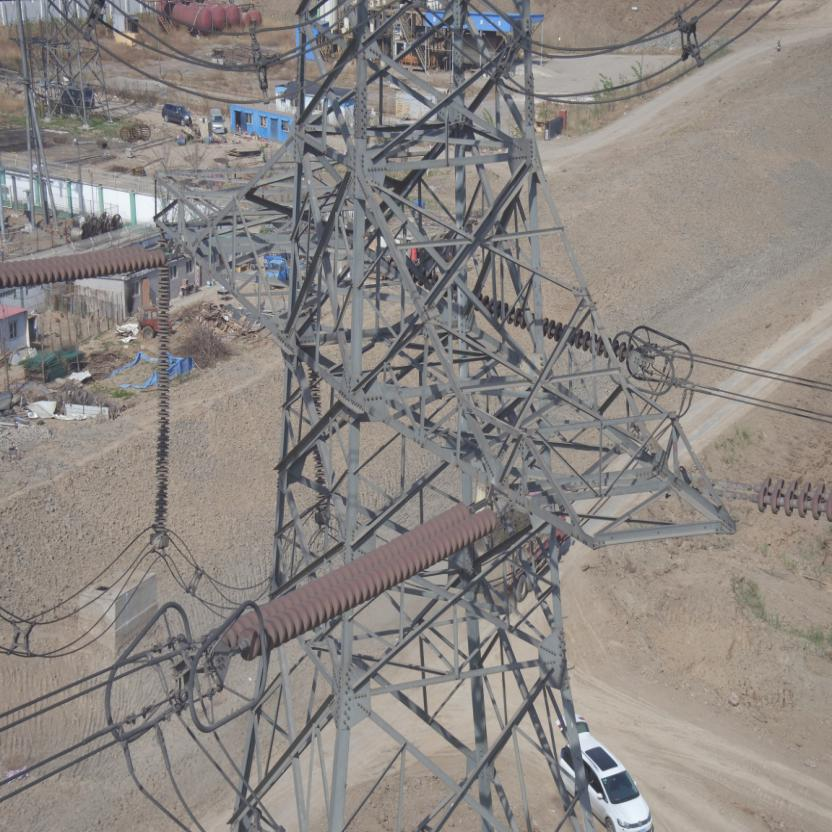insulator: (215, 496, 503, 661), (0, 243, 180, 292)
